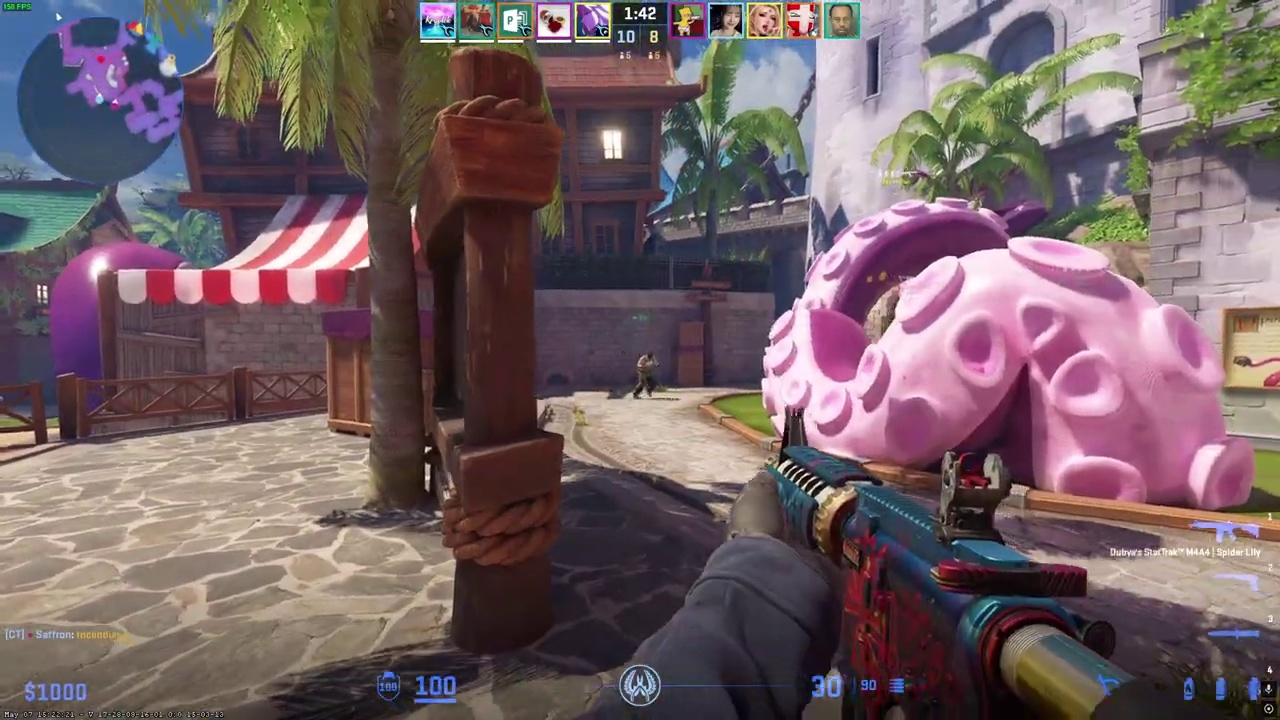Terrorist: (633, 350, 658, 398)
